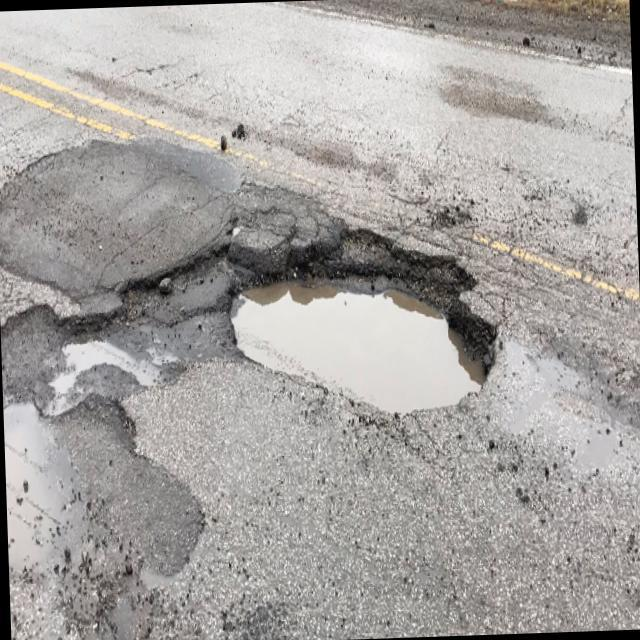Pothole: (228, 220, 500, 433), (54, 292, 148, 414)
